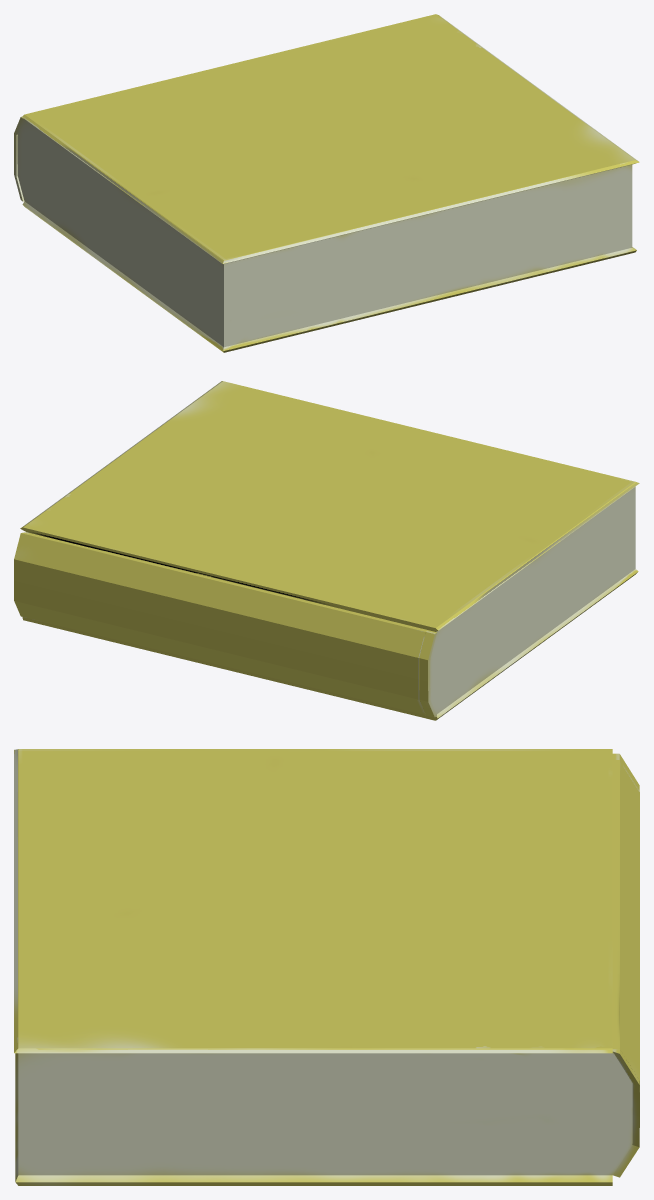
Rendered from book.fbx.
The picture shows the model from 3 angles, top to bottom: view 1: azimuth 30°, elevation 25°; view 2: azimuth 150°, elevation 25°; view 3: azimuth 270°, elevation 25°; orthographic projection. The views are drawn at different scales.
Visible parts, largest first — view 1: Cube.006; view 2: Cube.006; view 3: Cube.006.
Boxes of the visible parts, box(x1,y1,x2,y2) form: Cube.006: box(14, 14, 639, 352); Cube.006: box(14, 381, 639, 720); Cube.006: box(14, 749, 639, 1185).
Size of the model in its own units: 137 by 28.92 by 119.
Materials: 1 (1 with a texture image).
